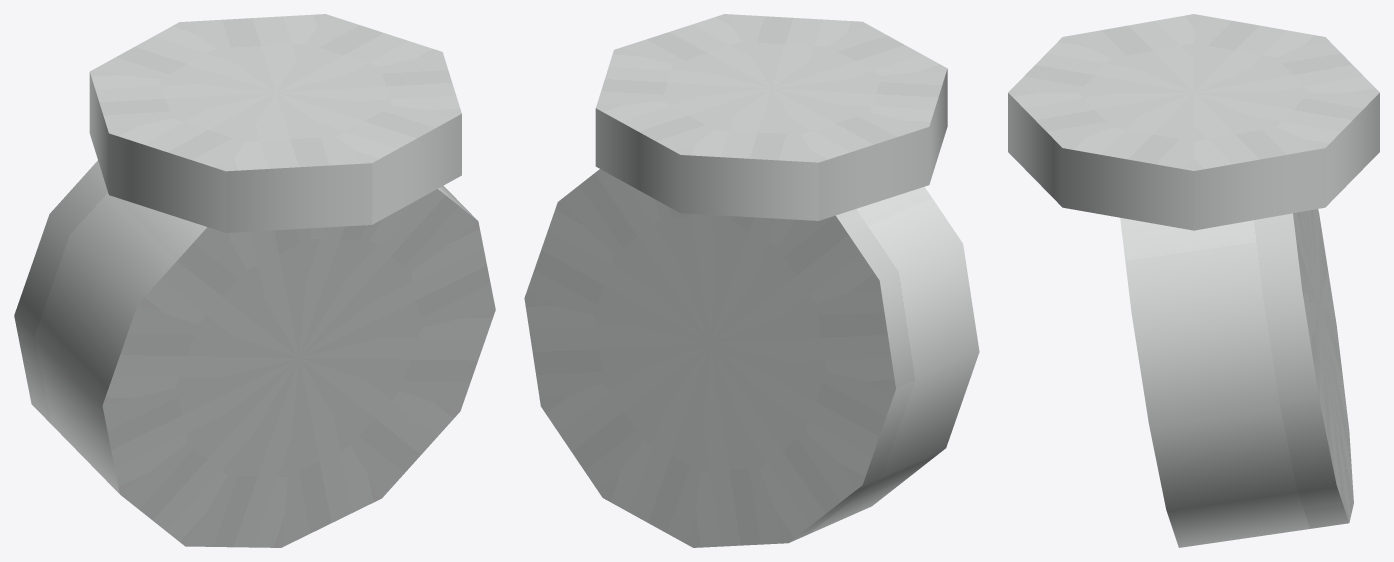
The model's file is trusssignalarm_stub_78.obj.
3 renders of one model, left to right at view 1: azimuth 30°, elevation 25°; view 2: azimuth 150°, elevation 25°; view 3: azimuth 270°, elevation 25°, orthographic. The views are drawn at different scales.
Visible parts, largest first — view 1: trusssignalarm_stub_78; view 2: trusssignalarm_stub_78; view 3: trusssignalarm_stub_78.
Part boxes in pixels (x1,y1,x2,y2): trusssignalarm_stub_78: [14, 14, 495, 547]; trusssignalarm_stub_78: [524, 14, 979, 547]; trusssignalarm_stub_78: [1008, 14, 1379, 547].
Bounding box in the file's own units: 0.4125 × 0.4523 × 0.35.
